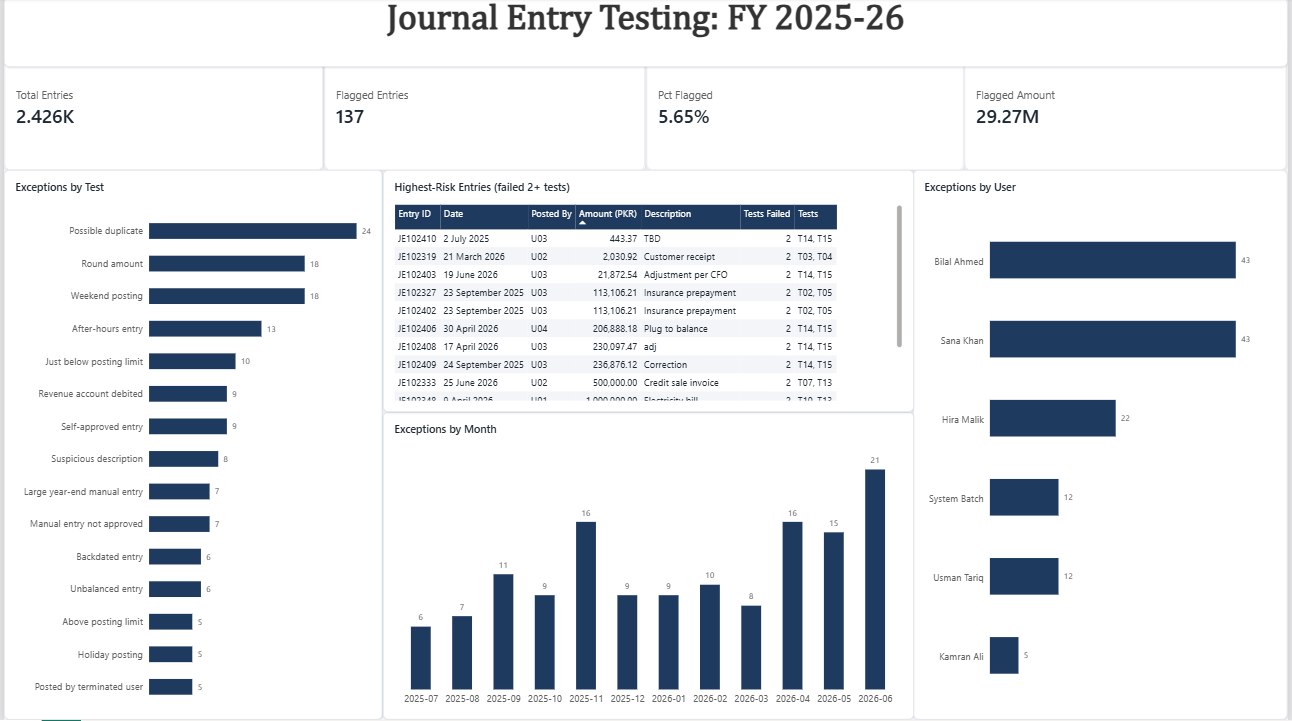

Layout of this report page (visuals, bound fields, positions):
{"tool":"powerbi","page":{"name":"Page 1","canvas":[1920,1080],"ordinal":0},"visuals":[{"type":"cardVisual","fields":{"Data":["je_exceptions.Total Entries"]},"box":[0,68.1,478.3,189.3],"z":0},{"type":"cardVisual","fields":{"Data":["je_exceptions.Flagged Entries"]},"box":[478.3,68.1,481.7,189.3],"z":1000},{"type":"cardVisual","fields":{"Data":["je_exceptions.Pct Flagged"]},"box":[960,68.1,476.7,189.3],"z":2000},{"type":"cardVisual","fields":{"Data":["je_exceptions.Flagged Amount"]},"box":[1436.7,68.1,483.3,189.3],"z":3000},{"type":"textbox","box":[0,0,1920,103],"z":4000},{"type":"clusteredBarChart","fields":{"Category":["je_exceptions.test_name"],"Y":["je_exceptions.Flagged Entries"]},"box":[0,257.4,566.4,822.1],"z":4001},{"type":"clusteredBarChart","fields":{"Category":["users.user_name"],"Y":["je_exceptions.Flagged Entries"]},"box":[1360.3,257.4,559.7,822.1],"z":4002},{"type":"clusteredColumnChart","fields":{"Category":["je_summary.Month"],"Y":["je_exceptions.Flagged Entries"]},"box":[566.4,619.5,793.9,460.1],"z":4003},{"type":"tableEx","fields":{"Values":["je_risk_ranking.je_id","je_risk_ranking.posting_date","je_risk_ranking.posted_by","je_risk_ranking.amount_pkr","je_risk_ranking.description","je_risk_ranking.tests_failed","je_risk_ranking.which_tests"]},"box":[566.4,257.4,793.9,362.1],"z":4004}]}

Visuals, with their boxes in screenshot pixels (x1, y1, x2, y2), scaled from the page's 1920x1080 canvas onto the 1292x721 screenshot:
cardVisual - je_exceptions.Total Entries: left=0, top=45, right=322, bottom=172
cardVisual - je_exceptions.Flagged Entries: left=322, top=45, right=646, bottom=172
cardVisual - je_exceptions.Pct Flagged: left=646, top=45, right=967, bottom=172
cardVisual - je_exceptions.Flagged Amount: left=967, top=45, right=1291, bottom=172
textbox: left=0, top=0, right=1291, bottom=69
clusteredBarChart - je_exceptions.test_name x je_exceptions.Flagged Entries: left=0, top=172, right=381, bottom=720
clusteredBarChart - users.user_name x je_exceptions.Flagged Entries: left=915, top=172, right=1291, bottom=720
clusteredColumnChart - je_summary.Month x je_exceptions.Flagged Entries: left=381, top=414, right=915, bottom=720
tableEx - je_risk_ranking.je_id x je_risk_ranking.posting_date: left=381, top=172, right=915, bottom=414
